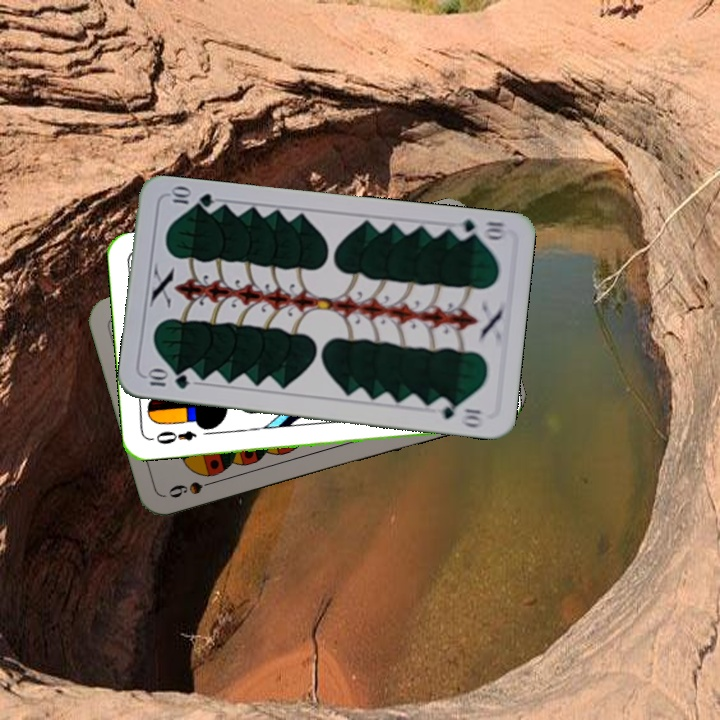EO: (147, 426, 199, 447)
G10: (449, 215, 509, 243), (142, 368, 192, 392)
S9: (164, 475, 222, 501)
